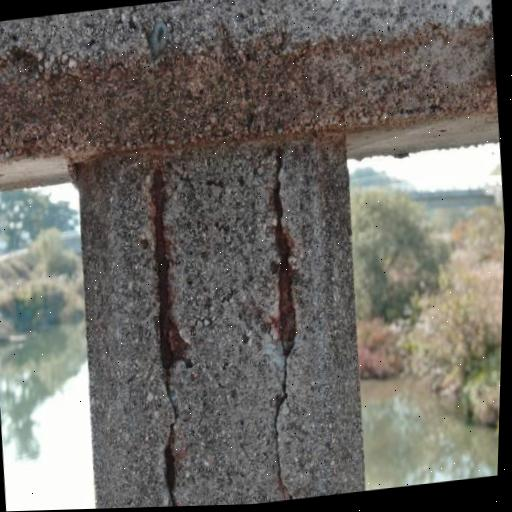exposed_rebar: (150, 168, 188, 393), (272, 179, 296, 358), (165, 443, 174, 493)
